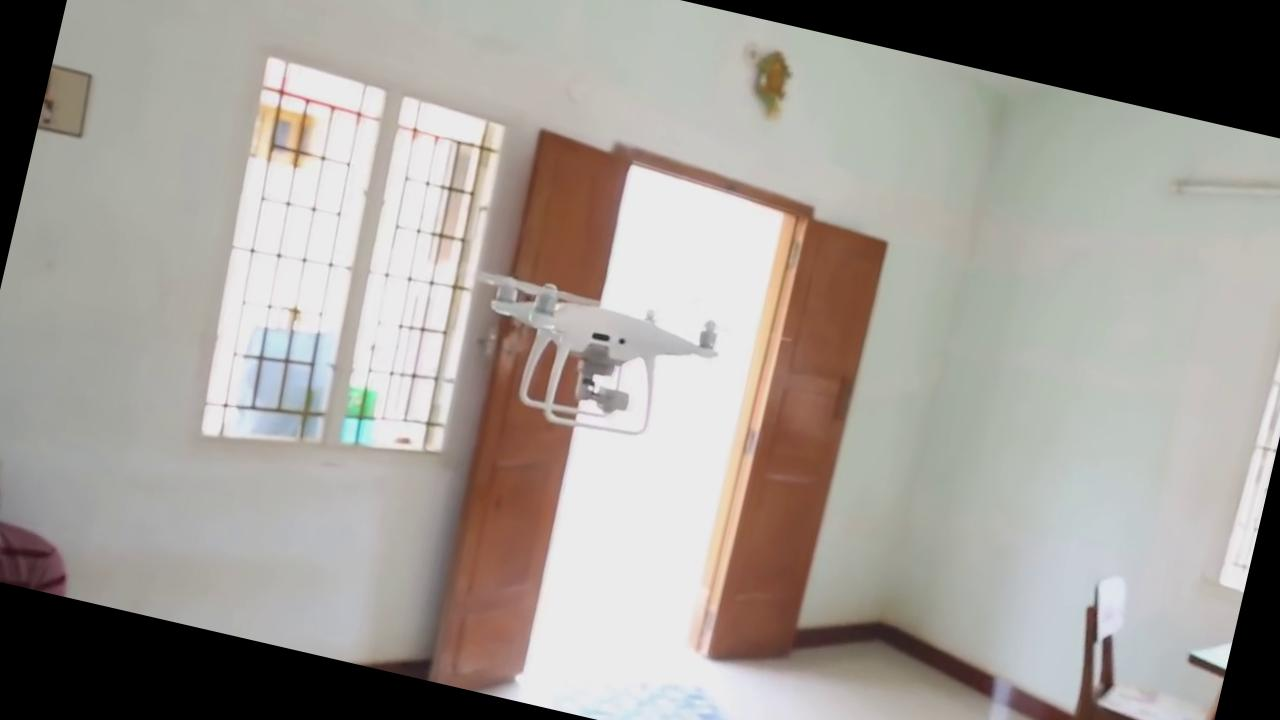drone: (432, 242, 736, 464)
